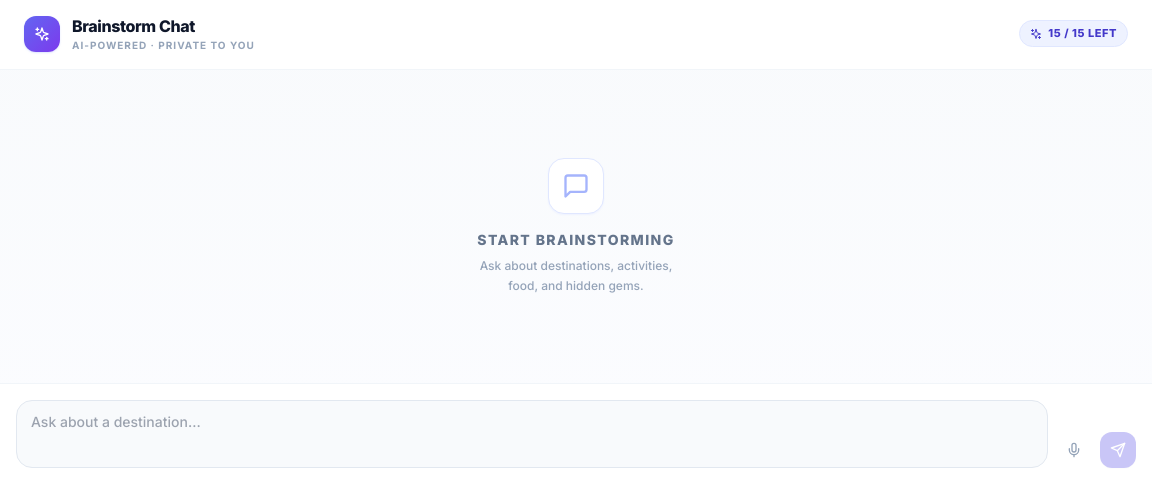
it: BrainstormChat — sending messages › shows an optimistic user bubble immediately after send
The image size is (1152, 487).
Expected: the text "Start brainstorming" is shown, [476, 230, 676, 250]
Type "Best spots in Rome?" into the text box. click: [532, 434]
box: [16, 400, 1048, 468]
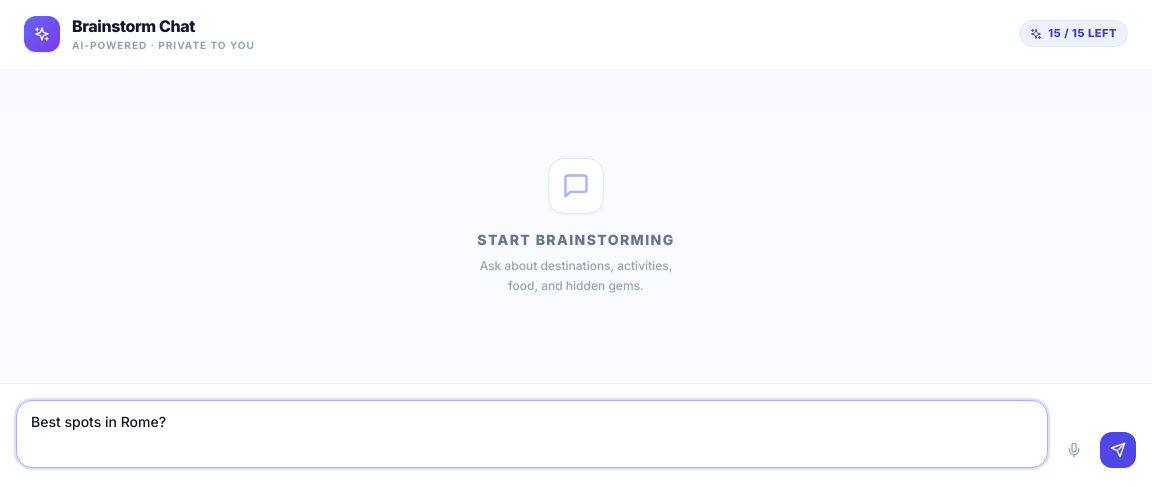
Click the button named "Send message". click: [1118, 450]
box: [1100, 432, 1136, 468]
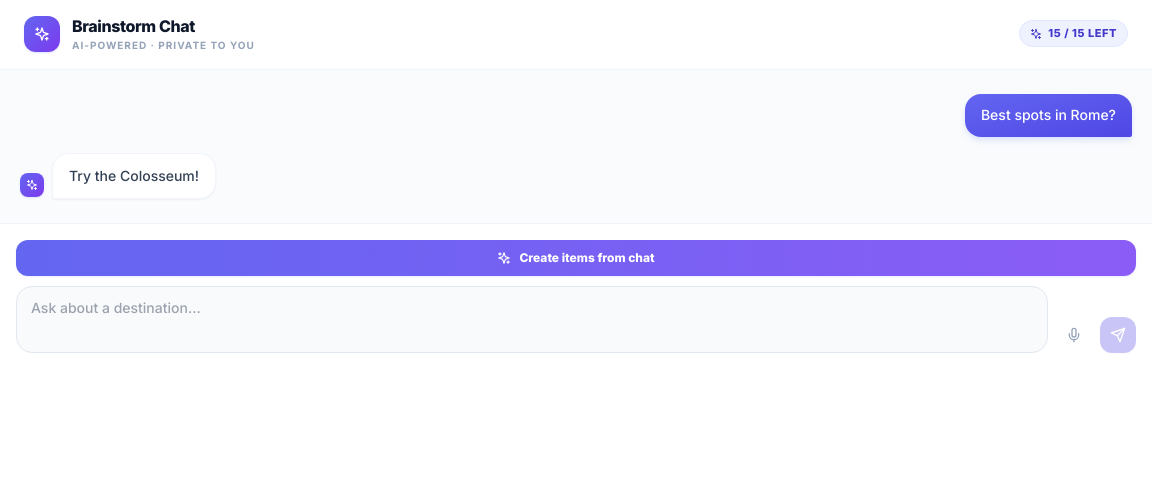
Expected: the text "Best spots in Rome?" is shown, [965, 94, 1132, 137]
